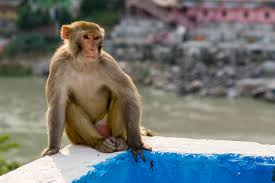monkey: (34, 14, 160, 164)
